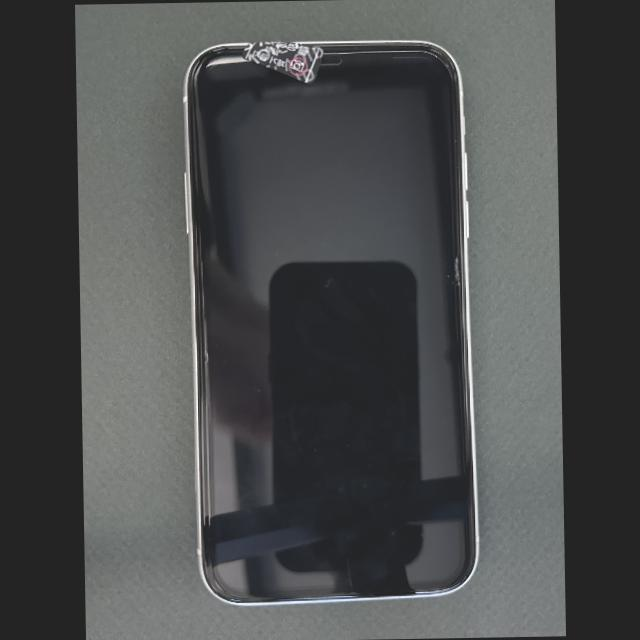phone: (181, 39, 480, 606)
sticker: (241, 39, 324, 84)
